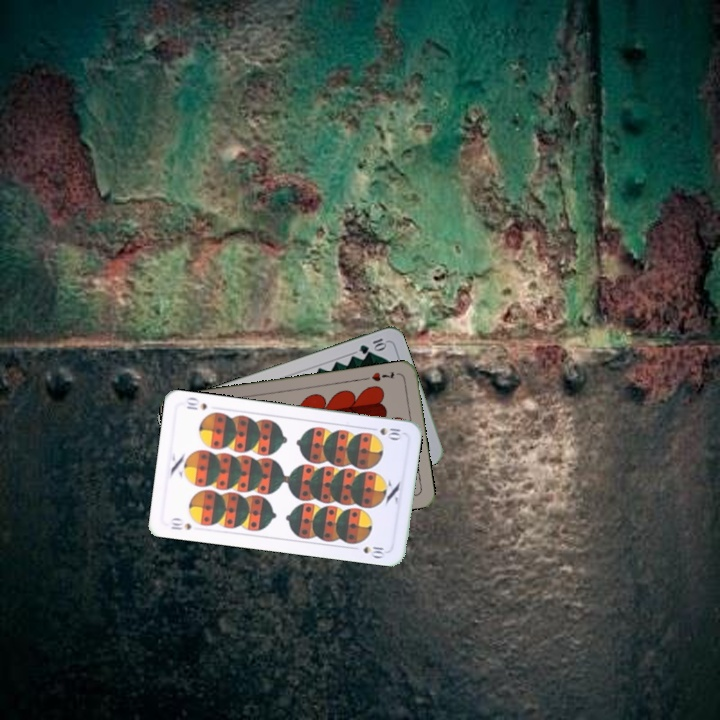G10: (355, 334, 389, 357)
H7: (368, 367, 397, 384)
S10: (365, 423, 406, 441), (167, 514, 194, 533)
